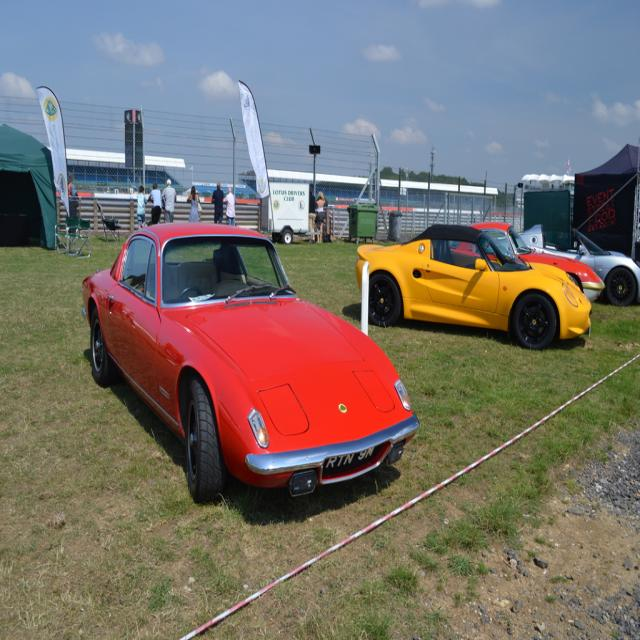car: (80, 218, 420, 503)
